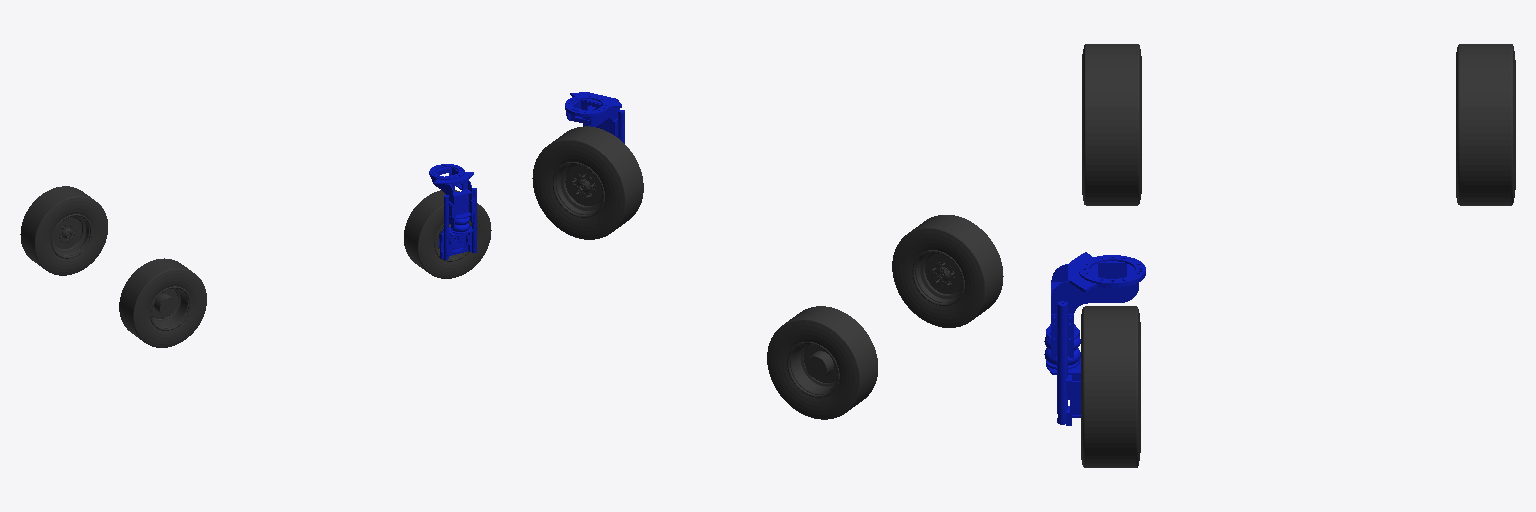
robot.urdf — agrorob_visualization:
<?xml version="1.0" encoding="utf-8"?>
<robot
  name="agrorob_visualization">
  <link
    name="base_link">
    <inertial>
      <origin
        xyz="-0.048158 -0.011907 -0.29729"
        rpy="0 0 0" />
      <mass
        value="109.44" />
      <inertia
        ixx="11.552"
        ixy="8.0751E-05"
        ixz="0.09927"
        iyy="6.1568"
        iyz="0.011191"
        izz="16.673" />
    </inertial>
    <visual>
      <origin
        xyz="0 0 0"
        rpy="0 0 0" />
      <geometry>
        <mesh
          filename="meshes/base_link.STL" />
      </geometry>
      <material
        name="">
        <color
          rgba="0.08 0.15 0.75 1" />
      </material>
    </visual>
    <collision>
      <origin
        xyz="0 0 0"
        rpy="0 0 0" />
      <geometry>
        <mesh
          filename="meshes/base_link.STL" />
      </geometry>
    </collision>
  </link>
  <link
    name="shin_RR">
    <inertial>
      <origin
        xyz="-1.6198E-05 -0.18089 -0.36666"
        rpy="0 0 0" />
      <mass
        value="13.879" />
      <inertia
        ixx="0.17331"
        ixy="4.2107E-05"
        ixz="1.8205E-06"
        iyy="0.16512"
        iyz="-0.012091"
        izz="0.098891" />
    </inertial>
    <visual>
      <origin
        xyz="0 0 0"
        rpy="0 0 0" />
      <geometry>
        <mesh
          filename="meshes/shin_RR.STL" />
      </geometry>
      <material
        name="">
        <color
          rgba="0.086 0.153 0.78402 1" />
      </material>
    </visual>
    <collision>
      <origin
        xyz="0 0 0"
        rpy="0 0 0" />
      <geometry>
        <mesh
          filename="meshes/shin_RR.STL" />
      </geometry>
    </collision>
  </link>
  <joint
    name="body_shin_RR"
    type="continuous">
    <origin
      xyz="-1.5189 -0.91134 -0.59348"
      rpy="0 0 0" />
    <parent
      link="base_link" />
    <child
      link="shin_RR" />
    <axis
      xyz="0 0 1" />
  </joint>
  <link
    name="wheel_RR">
    <inertial>
      <origin
        xyz="5.09761597659031E-05 -0.00621804725393116 -5.2513144545463E-05"
        rpy="0 0 0" />
      <mass
        value="15.2882363411273" />
      <inertia
        ixx="0.750826999841358"
        ixy="-3.17312090709986E-05"
        ixz="1.13856033648885E-05"
        iyy="1.20927676163548"
        iyz="2.64143117689303E-05"
        izz="0.750817779574298" />
    </inertial>
    <visual>
      <origin
        xyz="0 0 0"
        rpy="0 0 0" />
      <geometry>
        <mesh
          filename="meshes/wheel_RR.STL" />
      </geometry>
      <material
        name="">
        <color
          rgba="0.250980392156863 0.250980392156863 0.250980392156863 1" />
      </material>
    </visual>
    <collision>
      <origin
        xyz="0 0 0"
        rpy="0 0 0" />
      <geometry>
        <mesh
          filename="meshes/wheel_RR.STL" />
      </geometry>
    </collision>
  </link>
  <joint
    name="shin_wheel_RR"
    type="continuous">
    <origin
      xyz="0 0 -0.62885"
      rpy="0 0 0" />
    <parent
      link="shin_RR" />
    <child
      link="wheel_RR" />
    <axis
      xyz="0 1 0" />
  </joint>
  <link
    name="shin_RL">
    <inertial>
      <origin
        xyz="1.6198E-05 0.18089 -0.36666"
        rpy="0 0 0" />
      <mass
        value="13.879" />
      <inertia
        ixx="0.17331"
        ixy="4.2107E-05"
        ixz="-1.8188E-06"
        iyy="0.16512"
        iyz="0.012091"
        izz="0.09889" />
    </inertial>
    <visual>
      <origin
        xyz="0 0 0"
        rpy="0 0 0" />
      <geometry>
        <mesh
          filename="meshes/shin_RL.STL" />
      </geometry>
      <material
        name="">
        <color
          rgba="0.086 0.153 0.78402 1" />
      </material>
    </visual>
    <collision>
      <origin
        xyz="0 0 0"
        rpy="0 0 0" />
      <geometry>
        <mesh
          filename="meshes/shin_RL.STL" />
      </geometry>
    </collision>
  </link>
  <joint
    name="body_shin_RL"
    type="continuous">
    <origin
      xyz="-1.5189 0.88866 -0.59348"
      rpy="0 0 0" />
    <parent
      link="base_link" />
    <child
      link="shin_RL" />
    <axis
      xyz="0 0 1" />
  </joint>
  <link
    name="wheel_RL">
    <inertial>
      <origin
        xyz="5.0977E-05 0.006218 5.2513E-05"
        rpy="0 0 0" />
      <mass
        value="15.288" />
      <inertia
        ixx="0.75083"
        ixy="3.1732E-05"
        ixz="-1.1386E-05"
        iyy="1.2093"
        iyz="2.6415E-05"
        izz="0.75082" />
    </inertial>
    <visual>
      <origin
        xyz="0 0 0"
        rpy="0 0 0" />
      <geometry>
        <mesh
          filename="meshes/wheel_RL.STL" />
      </geometry>
      <material
        name="">
        <color
          rgba="0.25098 0.25098 0.25098 1" />
      </material>
    </visual>
    <collision>
      <origin
        xyz="0 0 0"
        rpy="0 0 0" />
      <geometry>
        <mesh
          filename="meshes/wheel_RL.STL" />
      </geometry>
    </collision>
  </link>
  <joint
    name="shin_wheel_RL"
    type="continuous">
    <origin
      xyz="0 0 -0.62885"
      rpy="0 0 0" />
    <parent
      link="shin_RL" />
    <child
      link="wheel_RL" />
    <axis
      xyz="0 -1 0" />
  </joint>
  <link
    name="shin_FR">
    <inertial>
      <origin
        xyz="-1.6198E-05 -0.18089 -0.36666"
        rpy="0 0 0" />
      <mass
        value="13.879" />
      <inertia
        ixx="0.17331"
        ixy="4.2107E-05"
        ixz="1.8193E-06"
        iyy="0.16512"
        iyz="-0.012091"
        izz="0.09889" />
    </inertial>
    <visual>
      <origin
        xyz="0 0 0"
        rpy="0 0 0" />
      <geometry>
        <mesh
          filename="meshes/shin_FR.STL" />
      </geometry>
      <material
        name="">
        <color
          rgba="0.086 0.153 0.78402 1" />
      </material>
    </visual>
    <collision>
      <origin
        xyz="0 0 0"
        rpy="0 0 0" />
      <geometry>
        <mesh
          filename="meshes/shin_FR.STL" />
      </geometry>
    </collision>
  </link>
  <joint
    name="body_shin_FR"
    type="continuous">
    <origin
      xyz="1.4791 -0.91134 -0.59348"
      rpy="0 0 0" />
    <parent
      link="base_link" />
    <child
      link="shin_FR" />
    <axis
      xyz="0 0 1" />
  </joint>
  <link
    name="wheel_FR">
    <inertial>
      <origin
        xyz="5.0976E-05 -0.012851 -5.2514E-05"
        rpy="0 0 0" />
      <mass
        value="15.288" />
      <inertia
        ixx="0.75083"
        ixy="-3.1732E-05"
        ixz="1.1386E-05"
        iyy="1.2093"
        iyz="2.6415E-05"
        izz="0.75082" />
    </inertial>
    <visual>
      <origin
        xyz="0 0 0"
        rpy="0 0 0" />
      <geometry>
        <mesh
          filename="meshes/wheel_FR.STL" />
      </geometry>
      <material
        name="">
        <color
          rgba="0.25098 0.25098 0.25098 1" />
      </material>
    </visual>
    <collision>
      <origin
        xyz="0 0 0"
        rpy="0 0 0" />
      <geometry>
        <mesh
          filename="meshes/wheel_FR.STL" />
      </geometry>
    </collision>
  </link>
  <joint
    name="shin_wheel_FR"
    type="continuous">
    <origin
      xyz="0 0 -0.62885"
      rpy="0 0 0" />
    <parent
      link="shin_FR" />
    <child
      link="wheel_FR" />
    <axis
      xyz="0 1 0" />
  </joint>
  <link
    name="shin_FL">
    <inertial>
      <origin
        xyz="1.6198E-05 0.18089 -0.36666"
        rpy="0 0 0" />
      <mass
        value="13.879" />
      <inertia
        ixx="0.17331"
        ixy="4.2107E-05"
        ixz="-1.819E-06"
        iyy="0.16512"
        iyz="0.012091"
        izz="0.09889" />
    </inertial>
    <visual>
      <origin
        xyz="0 0 0"
        rpy="0 0 0" />
      <geometry>
        <mesh
          filename="meshes/shin_FL.STL" />
      </geometry>
      <material
        name="">
        <color
          rgba="0.086 0.153 0.78402 1" />
      </material>
    </visual>
    <collision>
      <origin
        xyz="0 0 0"
        rpy="0 0 0" />
      <geometry>
        <mesh
          filename="meshes/shin_FL.STL" />
      </geometry>
    </collision>
  </link>
  <joint
    name="body_shin_FL"
    type="continuous">
    <origin
      xyz="1.4791 0.88866 -0.59348"
      rpy="0 0 0" />
    <parent
      link="base_link" />
    <child
      link="shin_FL" />
    <axis
      xyz="0 0 1" />
  </joint>
  <link
    name="wheel_FL">
    <inertial>
      <origin
        xyz="5.0977E-05 0.006218 5.2514E-05"
        rpy="0 0 0" />
      <mass
        value="15.288" />
      <inertia
        ixx="0.75083"
        ixy="3.1732E-05"
        ixz="-1.1386E-05"
        iyy="1.2093"
        iyz="2.6415E-05"
        izz="0.75082" />
    </inertial>
    <visual>
      <origin
        xyz="0 0 0"
        rpy="0 0 0" />
      <geometry>
        <mesh
          filename="meshes/wheel_FL.STL" />
      </geometry>
      <material
        name="">
        <color
          rgba="0.25098 0.25098 0.25098 1" />
      </material>
    </visual>
    <collision>
      <origin
        xyz="0 0 0"
        rpy="0 0 0" />
      <geometry>
        <mesh
          filename="meshes/wheel_FL.STL" />
      </geometry>
    </collision>
  </link>
  <joint
    name="shin_wheel_FL"
    type="continuous">
    <origin
      xyz="0 0 -0.62885"
      rpy="0 0 0" />
    <parent
      link="shin_FL" />
    <child
      link="wheel_FL" />
    <axis
      xyz="0 -1 0" />
  </joint>
</robot>

--- What the picture shows (computed from the rendered views, not written in the file) ---
3 views of the same robot in one strip: view 1: azimuth 30°, elevation 25°; view 2: azimuth 150°, elevation 25°; view 3: azimuth 270°, elevation 25° (orthographic).
Model agrorob_visualization with 9 links and 8 joints (8 continuous), rooted at base_link, posed every joint at zero.
Links seen in each view (by area): view 1: wheel_RR, wheel_RL, wheel_FR, shin_FR; view 2: wheel_RR, wheel_RL, wheel_FR, shin_FR; view 3: wheel_RR, wheel_FR, wheel_RL, shin_FR.
Boxes of the visible links, x1,y1,x2,y2 form: wheel_RR: [119, 258, 206, 347]; wheel_RL: [20, 186, 107, 275]; wheel_FR: [404, 190, 491, 278]; shin_FR: [429, 164, 476, 259]; wheel_RR: [892, 215, 1003, 327]; wheel_RL: [767, 306, 877, 419]; wheel_FR: [532, 126, 643, 239]; shin_FR: [565, 92, 624, 143]; wheel_RR: [1082, 44, 1141, 205]; wheel_FR: [1081, 306, 1140, 467]; wheel_RL: [1456, 44, 1515, 205]; shin_FR: [1044, 252, 1145, 425].
Size in the robot's own frame: 3.78 by 2.27 by 1.02 metres.
Meshes: 9 distinct files referenced, 4 mesh visuals loaded (4 binary STL); not drawn: 5 (reference not matched to a file when rendering).